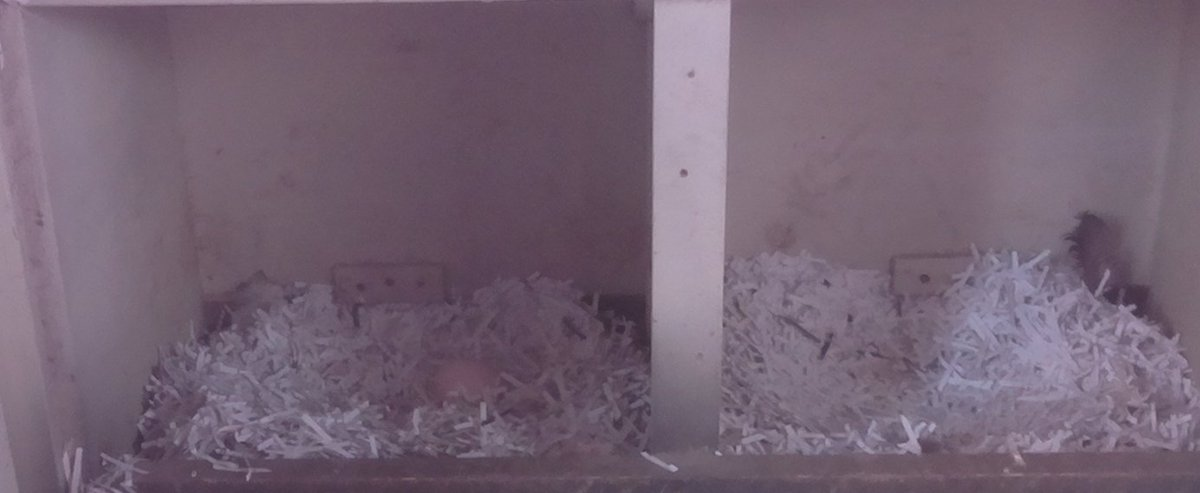egg: (418, 354, 510, 409)
